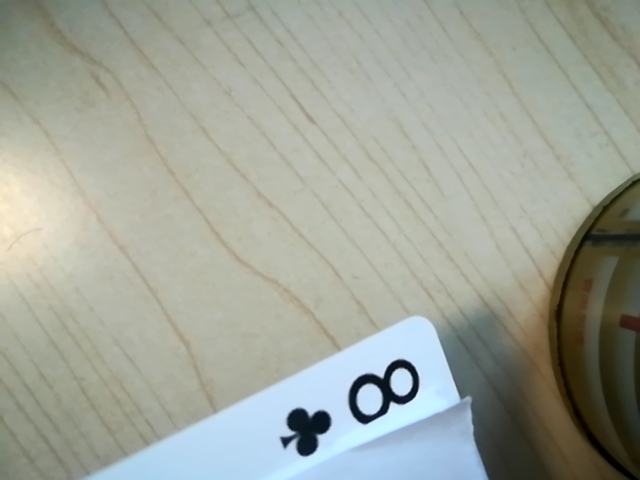mh 8: (270, 349, 442, 463)
